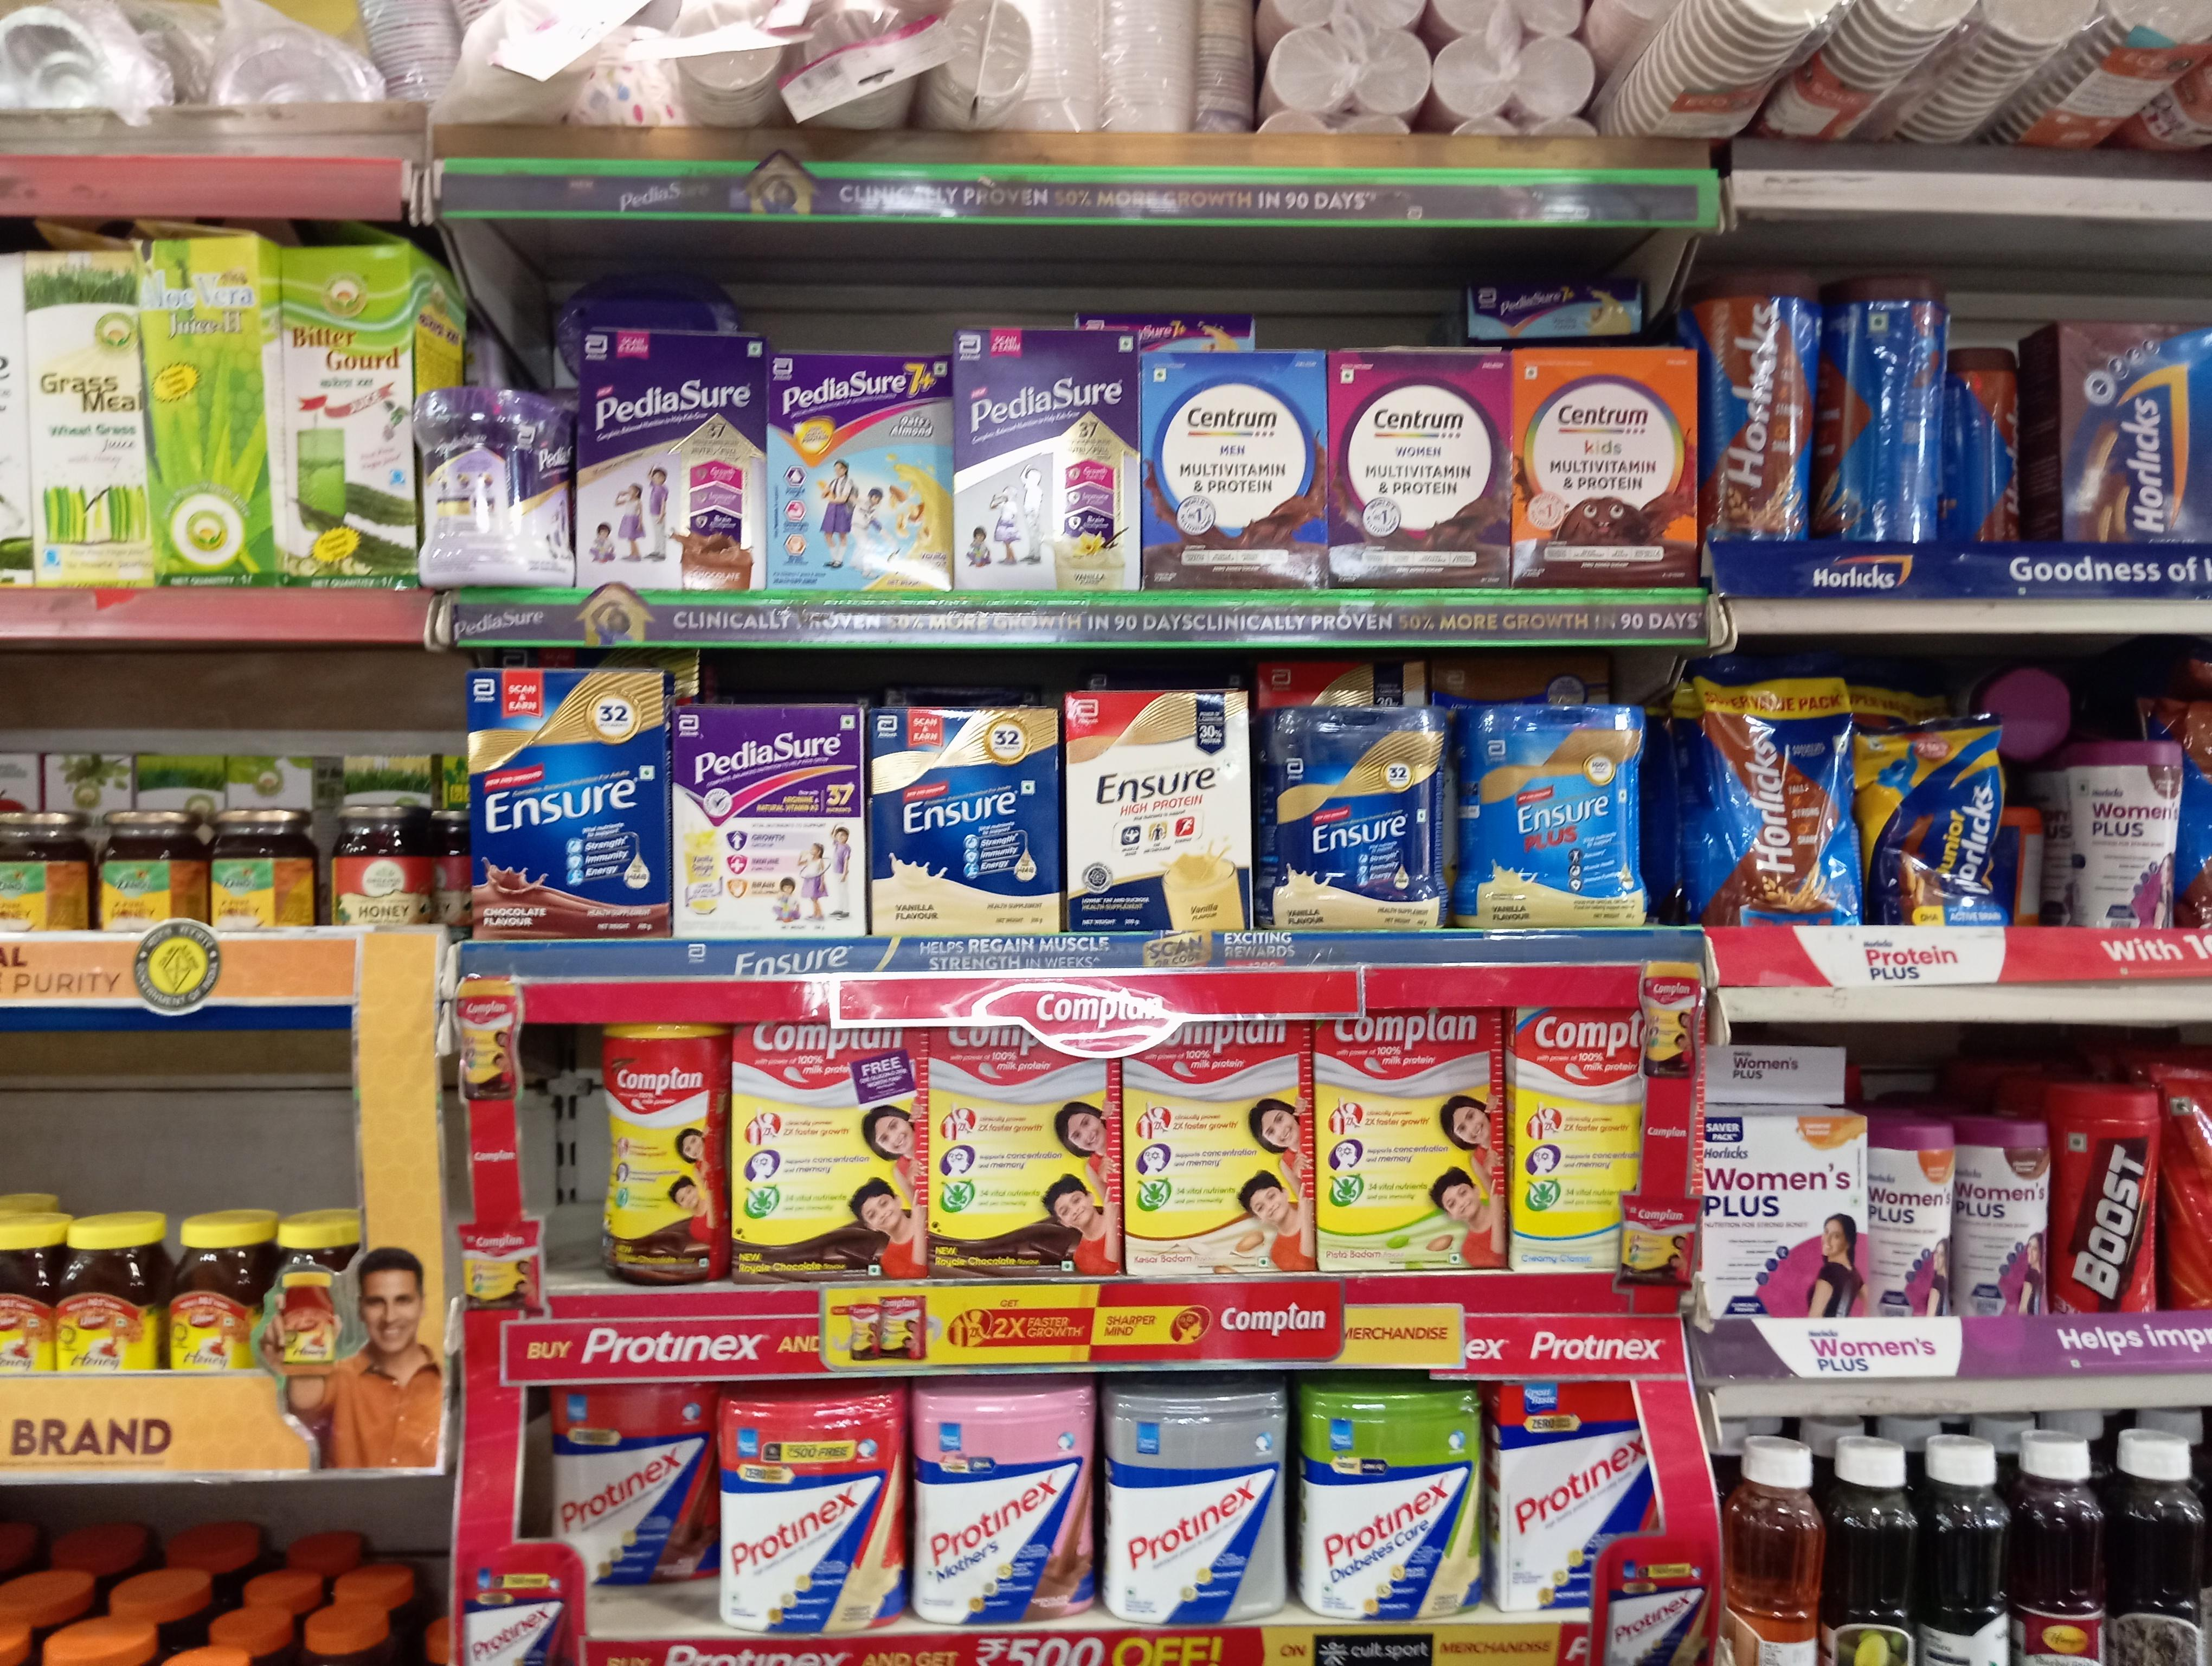COMPLAN_CHOCOLATE_500_GMS_JAR: (598, 1026, 729, 1285)
COMPLAN_CHOCOLATE_500_GMS_PACK: (734, 1024, 925, 1279), (932, 1026, 1123, 1276)
COMPLAN_CREAMY_CLASSIC_500_G_PACK: (1514, 1011, 1623, 1272)
COMPLAN_KESAR_BADAM_500_GMS_PACK: (1128, 1050, 1315, 1272)
COMPLAN_PISTA_BADAM_500_GMS_PACK: (1320, 1020, 1506, 1269)
ENSURE_VANILLA_400_G_PACK: (871, 707, 1063, 938), (1068, 695, 1254, 931)
HORLICK_CHOCOLATE_1_KG_JAR: (1703, 268, 1813, 539)
HORLICK_CHOCOLATE_750_G_POUCH: (1693, 665, 1854, 922)
PEDIASURE_CHOCOLATE_500_G_PACK: (575, 326, 761, 590)
PEDIASURE_VANILLA_500_G_PACK: (956, 329, 1137, 591)
PROTINEX_CHOCOLATE_400_G_JAR: (547, 1393, 715, 1584)
PROTINEX_ORIGINAL_400_G_JAR: (1102, 1388, 1287, 1619)
PROTINEX_VANILLA_400_G_JAR: (720, 1395, 904, 1633)
